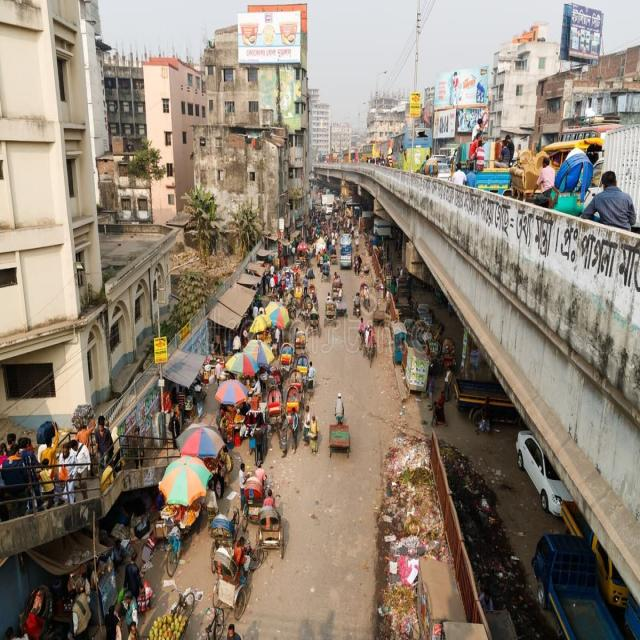Rickshaw: (528, 149, 615, 224), (212, 523, 266, 628), (257, 493, 303, 577), (200, 482, 247, 559), (234, 461, 280, 532), (259, 385, 292, 451), (285, 370, 312, 442), (357, 322, 387, 368), (292, 328, 318, 373)
Van: (322, 415, 364, 460)
